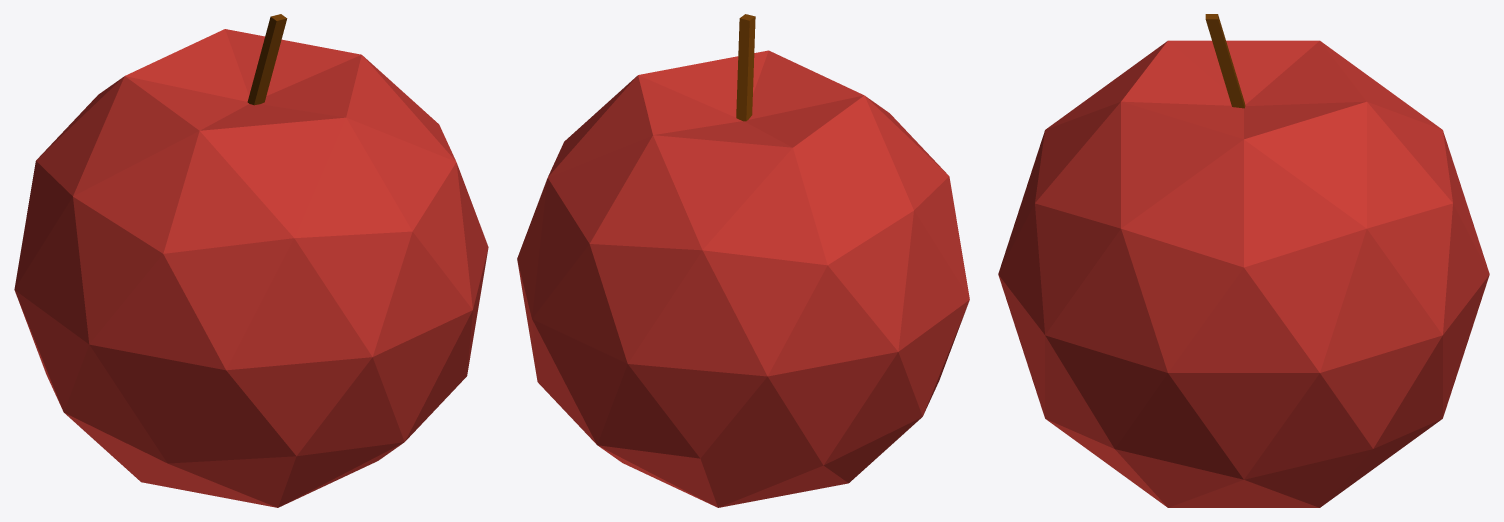
File: redFruit.fbx
3 renders of one model, left to right at view 1: azimuth 30°, elevation 25°; view 2: azimuth 150°, elevation 25°; view 3: azimuth 270°, elevation 25°, orthographic. The views are drawn at different scales.
Parts seen in each view (by area): view 1: Icosphere; view 2: Icosphere; view 3: Icosphere.
Boxes of the visible parts, <box> form: Icosphere: <box>14,14,488,507</box>; Icosphere: <box>517,14,969,507</box>; Icosphere: <box>998,14,1489,507</box>.
Bounding box in the file's own units: 14.27 × 16.37 × 15.
